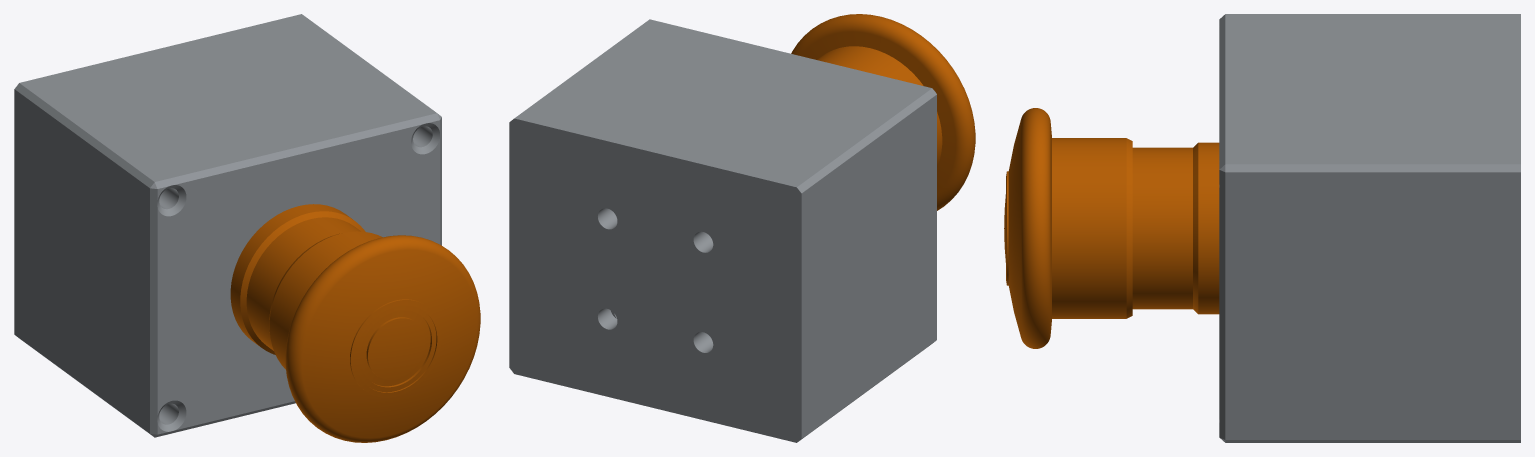
Rendered from BAU.gltf.
The picture shows the model from 3 angles, left to right: view 1: azimuth 30°, elevation 25°; view 2: azimuth 150°, elevation 25°; view 3: azimuth 270°, elevation 25°; orthographic projection. The views are drawn at different scales.
Parts seen in each view (by area): view 1: Part 1, Part 2, occurrence of 8153925_1; view 2: Part 1, occurrence of 8153925_1, Part 2; view 3: Part 1, occurrence of 8153925_1, Part 2.
Boxes of the visible parts, box(x1,y1,x2,y2) form: Part 1: box(14, 14, 419, 423); Part 2: box(133, 101, 441, 437); occurrence of 8153925_1: box(230, 204, 480, 442); Part 1: box(509, 31, 920, 442); occurrence of 8153925_1: box(791, 14, 975, 210); Part 2: box(633, 19, 936, 353); Part 1: box(1261, 14, 1520, 442); occurrence of 8153925_1: box(1004, 108, 1219, 348); Part 2: box(1219, 14, 1261, 442).
Size of the model in its own units: 0.061 by 0.051 by 0.0857.
